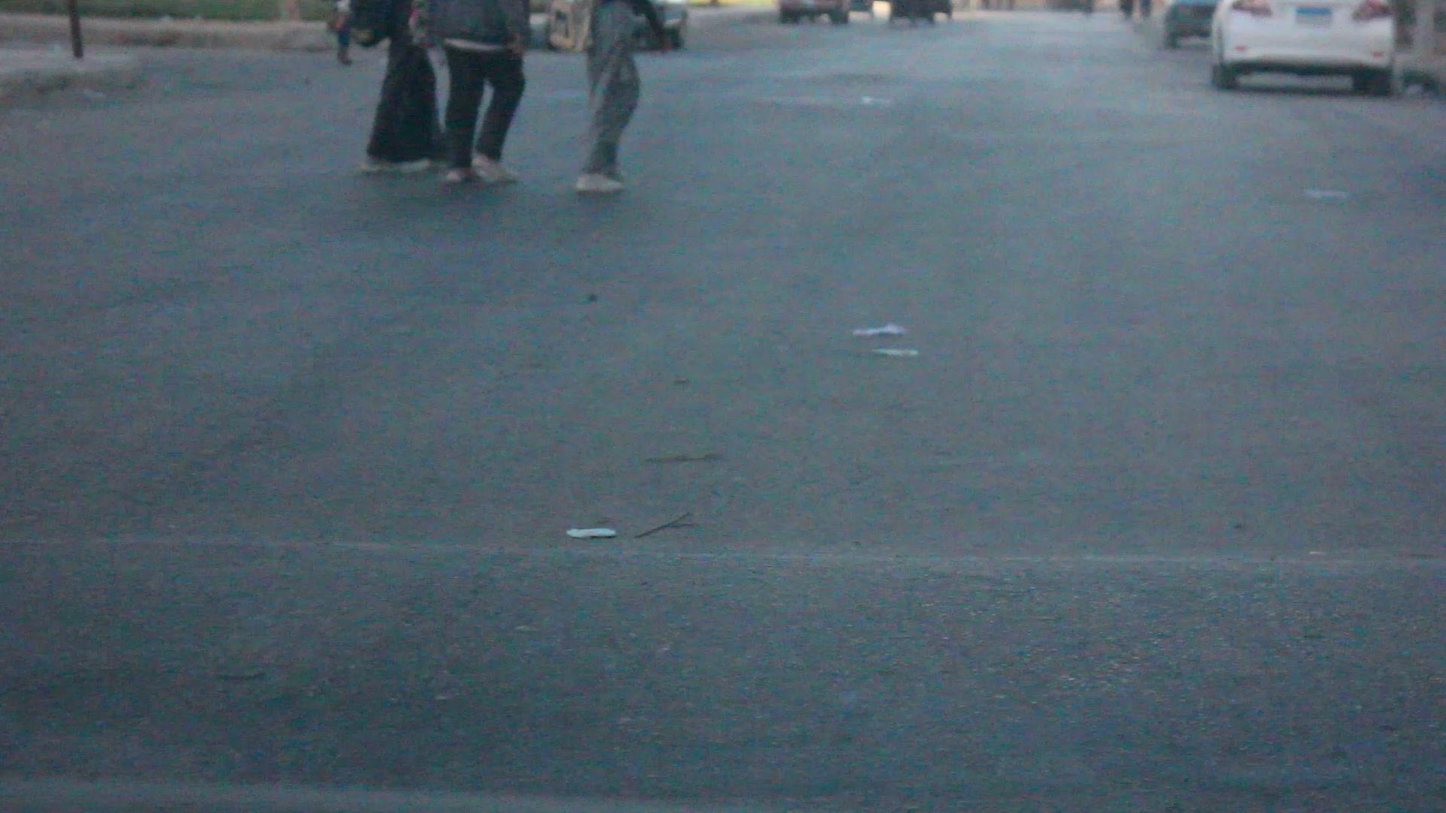Bump: (0, 512, 1446, 813)
